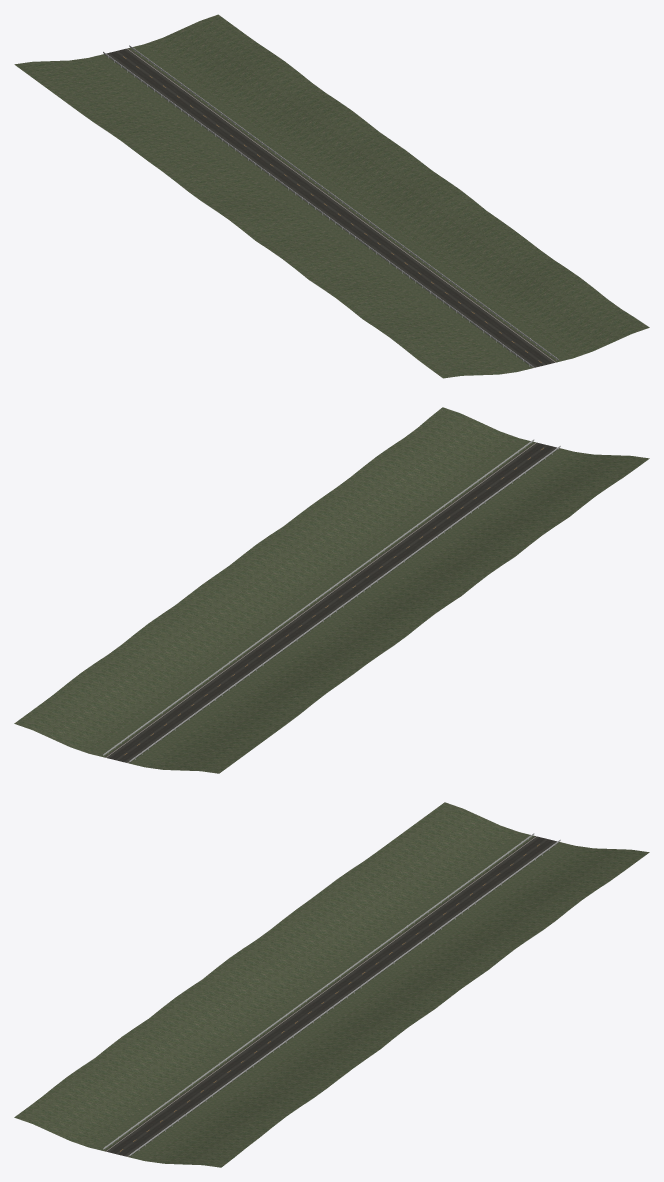
3 renders of one model, top to bottom at view 1: azimuth 30°, elevation 25°; view 2: azimuth 150°, elevation 25°; view 3: azimuth 330°, elevation 25°, orthographic.
Visible parts, largest first — view 1: Grass, HighWay, GuardRail; view 2: Grass, HighWay, GuardRail; view 3: Grass, HighWay, GuardRail.
Boxes of the visible parts, x1,y1,x2,y2 form: Grass: (14,14,649,378); HighWay: (104,48,557,367); GuardRail: (103,45,558,366); Grass: (14,407,649,773); HighWay: (104,442,559,763); GuardRail: (103,439,560,761); Grass: (14,802,649,1167); HighWay: (104,836,559,1157); GuardRail: (103,833,560,1155).
Size of what is drawn, in the model's own units: 111 by 6.97 by 400.
